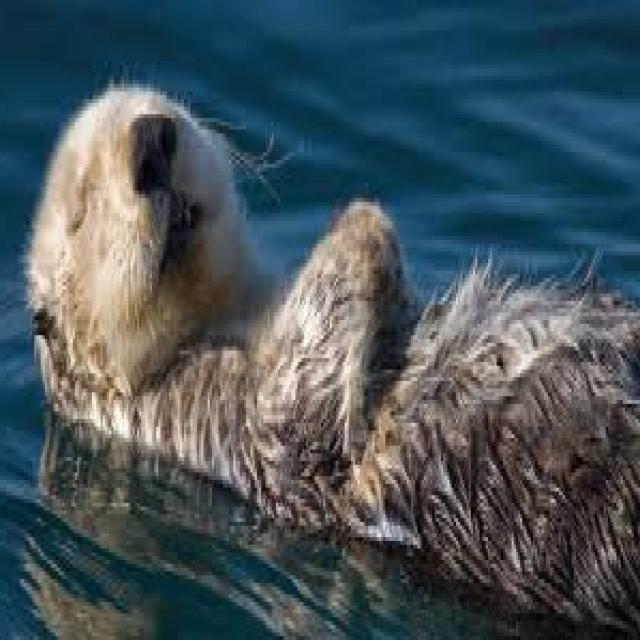otter: (28, 84, 640, 632)
